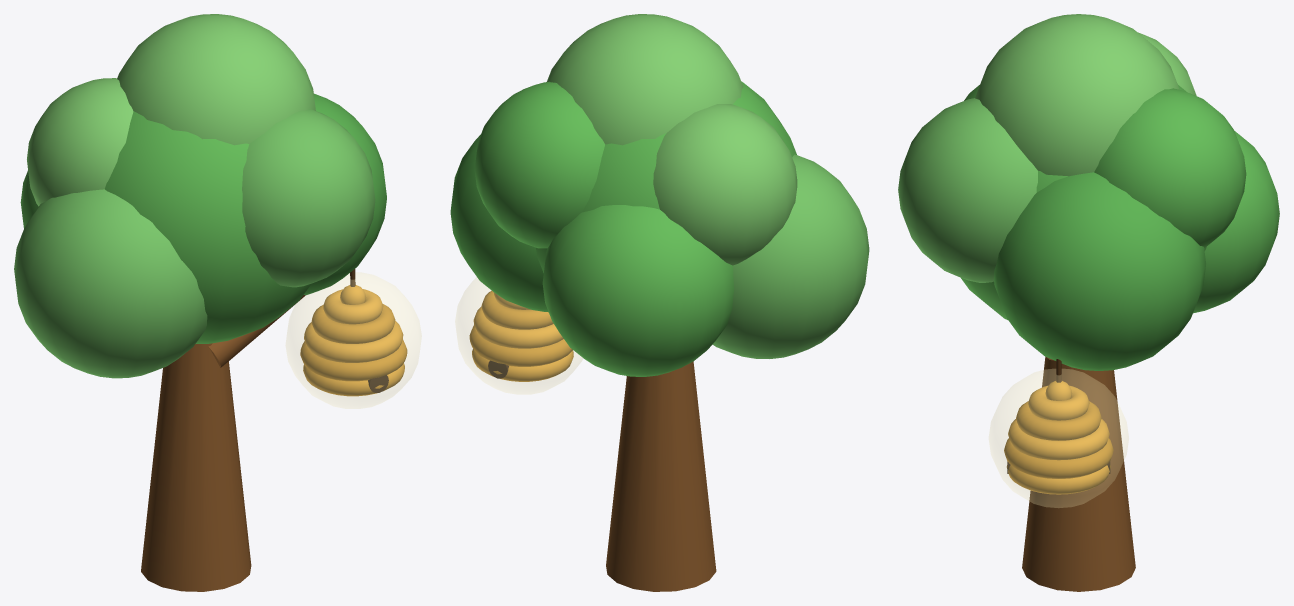
The model's file is oak-and-wild-hive.glb.
3 renders of one model, left to right at view 1: azimuth 30°, elevation 25°; view 2: azimuth 150°, elevation 25°; view 3: azimuth 270°, elevation 25°, orthographic. The views are drawn at different scales.
Size of the model in its own units: 6.85 by 9.1 by 5.7.
